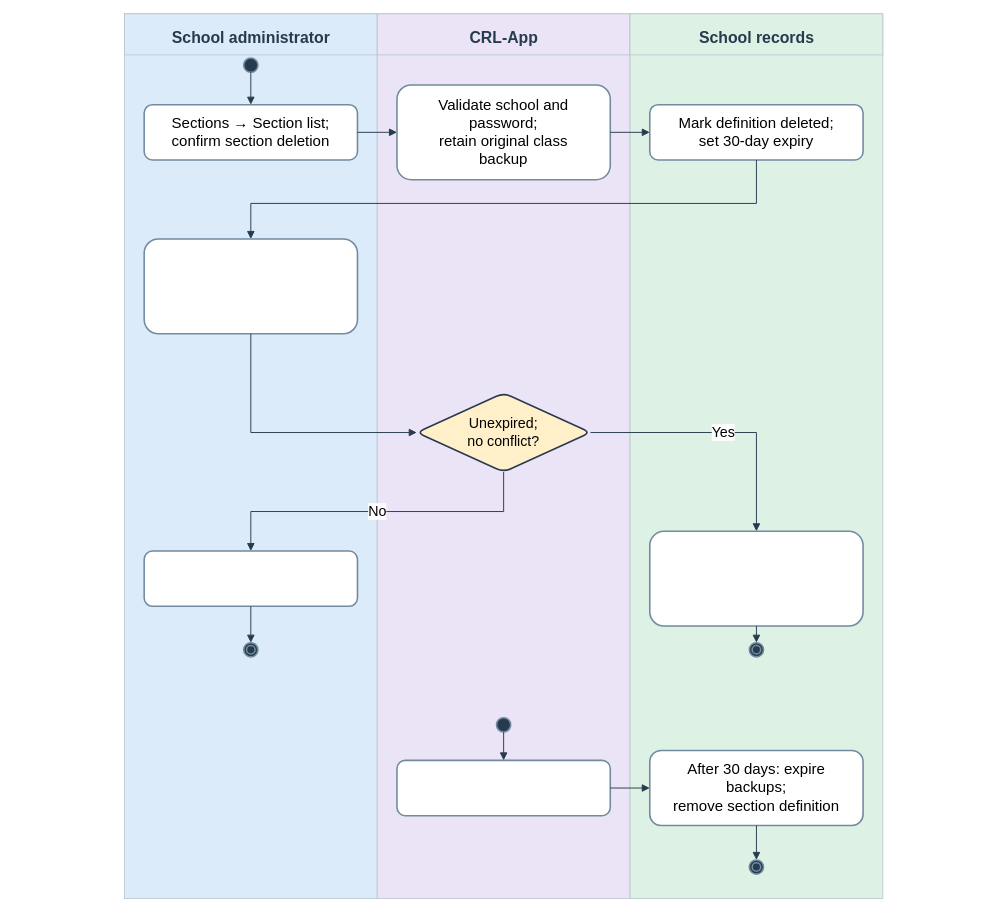
The diagram is 1006 pixels wide and 912 high, and some of its shapes have lost their labels. The shapes that lost their labels are listed below. From the top down, each one's box as (x1, y1, x2, y2) in pixels, then its label:
(143, 238, 358, 334): Sections → Deleted Sections; view countdown; choose Restore
(143, 550, 358, 607): Explain restriction; retain existing records
(649, 530, 863, 626): Restore definition and original teacher assignment / records
(396, 759, 611, 816): Scheduled deadline check
